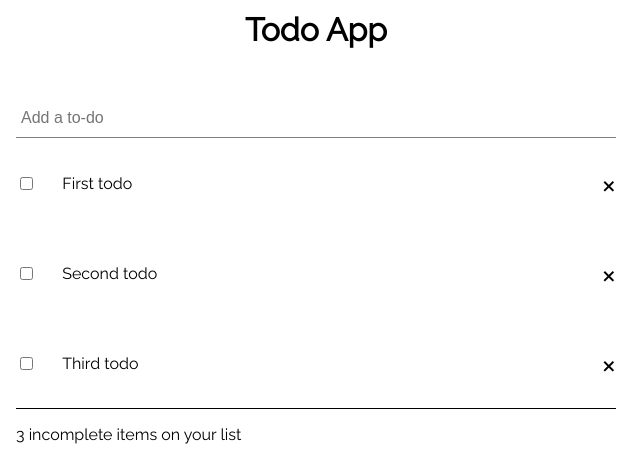
Test: ng Todo App › Todo interactions › Should delete a single Todo
Click the text with class "remove-item" in the row of "Third todo" at (609,364), box [601,345,616,382]
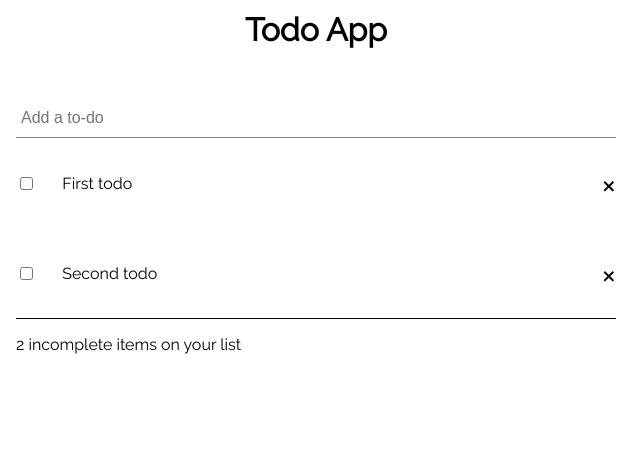
Result: the number of elements with class "todo-item-left" is fewer than 3
